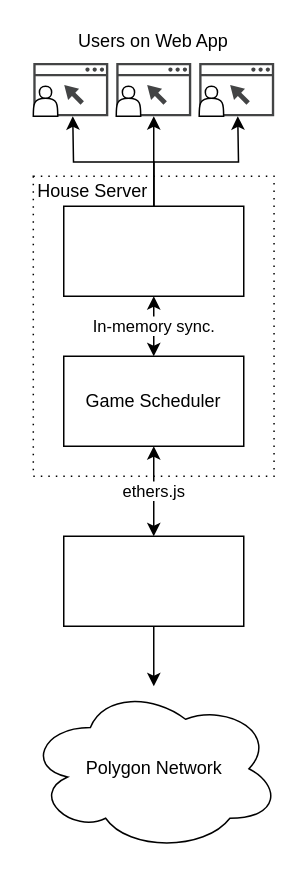
The diagram is 308 pixels wide and 878 high, and some of its shapes have lost their labels. The shapes that lost their labels are listed below. From the top down, each one's centre as x and y in pixels, then its label:
At pixel 153 250: "WebSocket Server".
At pixel 153 580: "Alchemy RPC Node".
